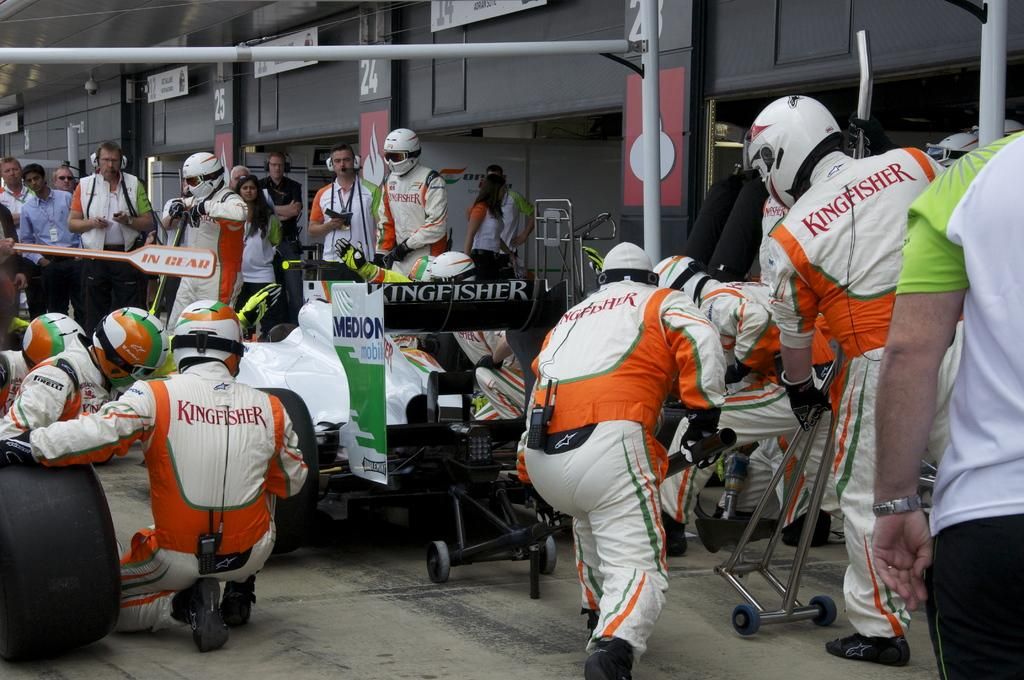helmet: (742, 95, 845, 210), (92, 307, 170, 395), (173, 299, 244, 378), (22, 312, 89, 379), (645, 255, 712, 314), (430, 251, 476, 304), (182, 152, 225, 202), (383, 128, 421, 176)
nohelmet: (96, 140, 122, 179), (330, 141, 355, 179), (21, 163, 47, 194), (482, 173, 507, 205), (236, 174, 261, 203), (0, 156, 23, 187), (266, 151, 287, 180), (53, 166, 75, 193)
